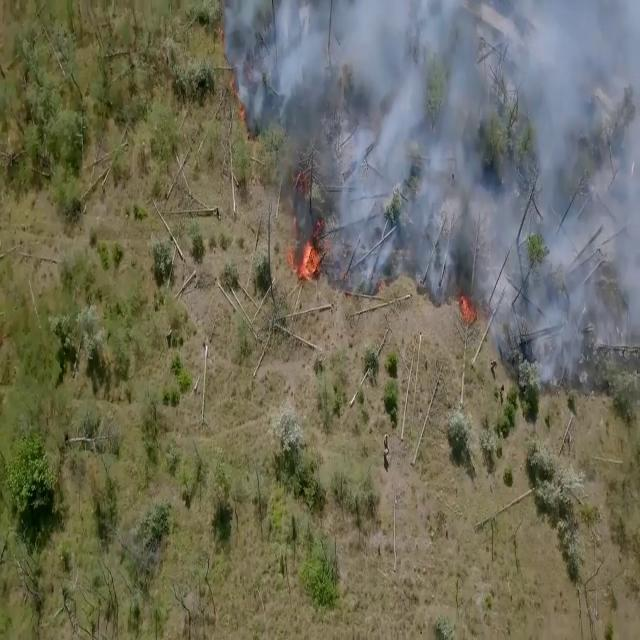Fire: (296, 227, 322, 283)
Smoke: (241, 0, 639, 356)
